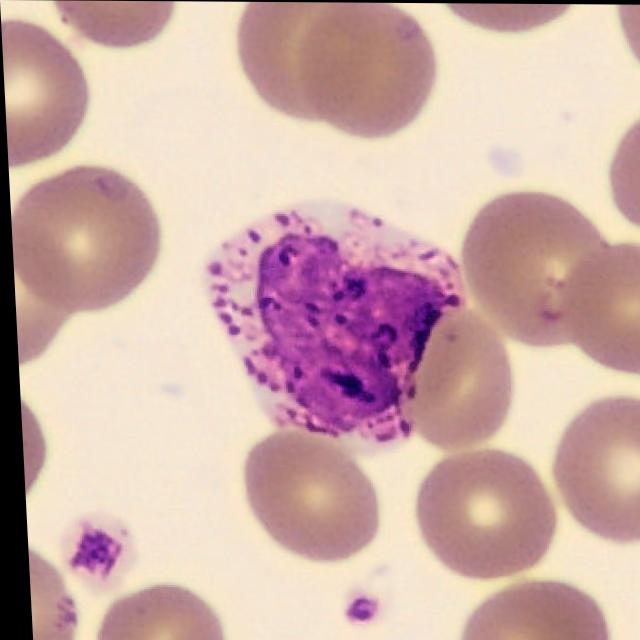Basofilo: (200, 199, 459, 441)
